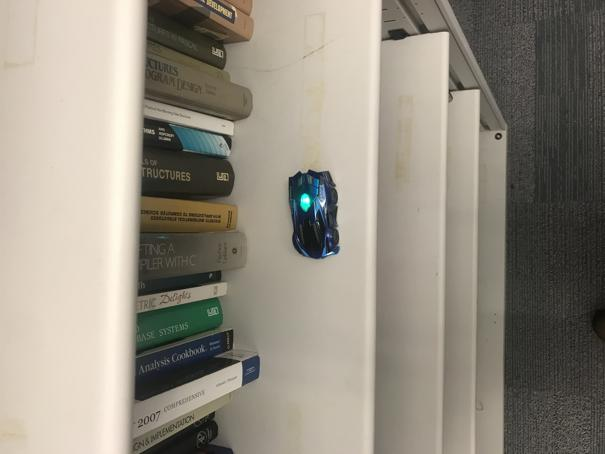Shock: (287, 169, 342, 260)
